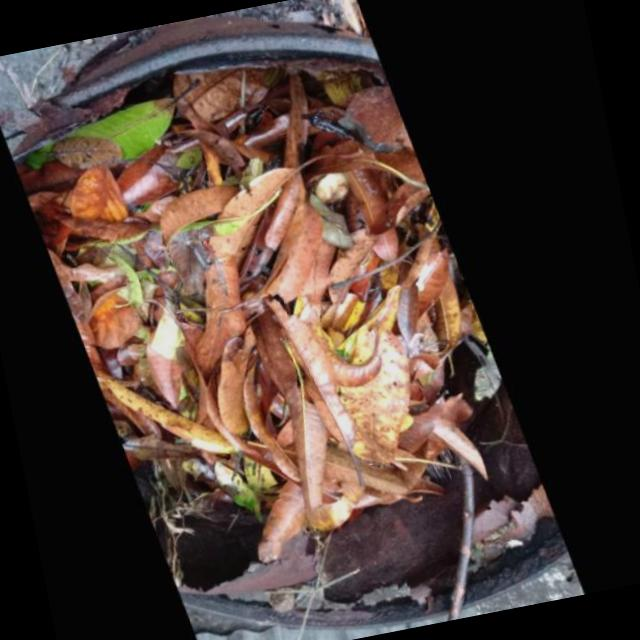la_cay: (256, 304, 335, 511), (271, 296, 361, 453), (186, 236, 270, 401), (325, 321, 417, 463), (107, 377, 239, 455), (52, 94, 186, 170), (125, 120, 222, 212), (303, 224, 387, 325), (397, 235, 465, 349), (58, 257, 119, 384), (401, 378, 486, 469), (183, 54, 294, 121), (92, 270, 174, 351), (273, 187, 330, 299), (194, 101, 273, 181), (220, 325, 271, 448), (408, 301, 459, 416), (354, 165, 410, 263), (259, 479, 320, 565), (226, 166, 312, 220), (169, 186, 248, 244), (354, 451, 427, 507), (76, 164, 140, 226), (311, 474, 369, 535), (253, 76, 301, 146), (217, 210, 273, 262), (297, 101, 362, 145)
